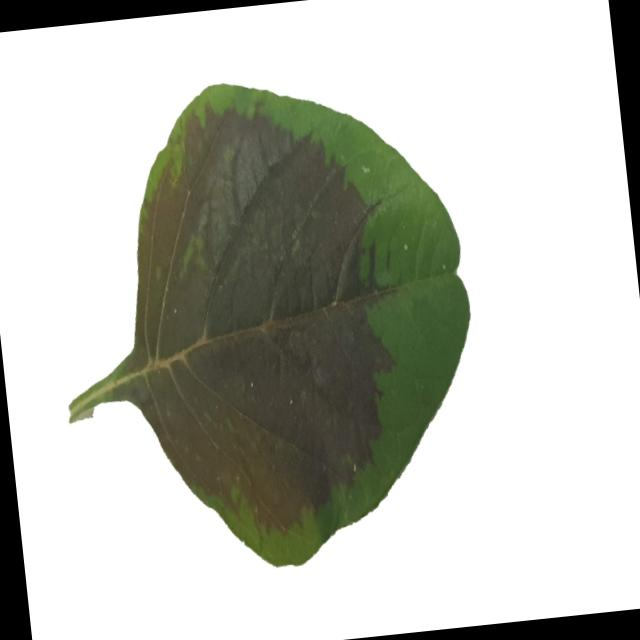Medicinal-Arive Dantu: (33, 52, 496, 586)
